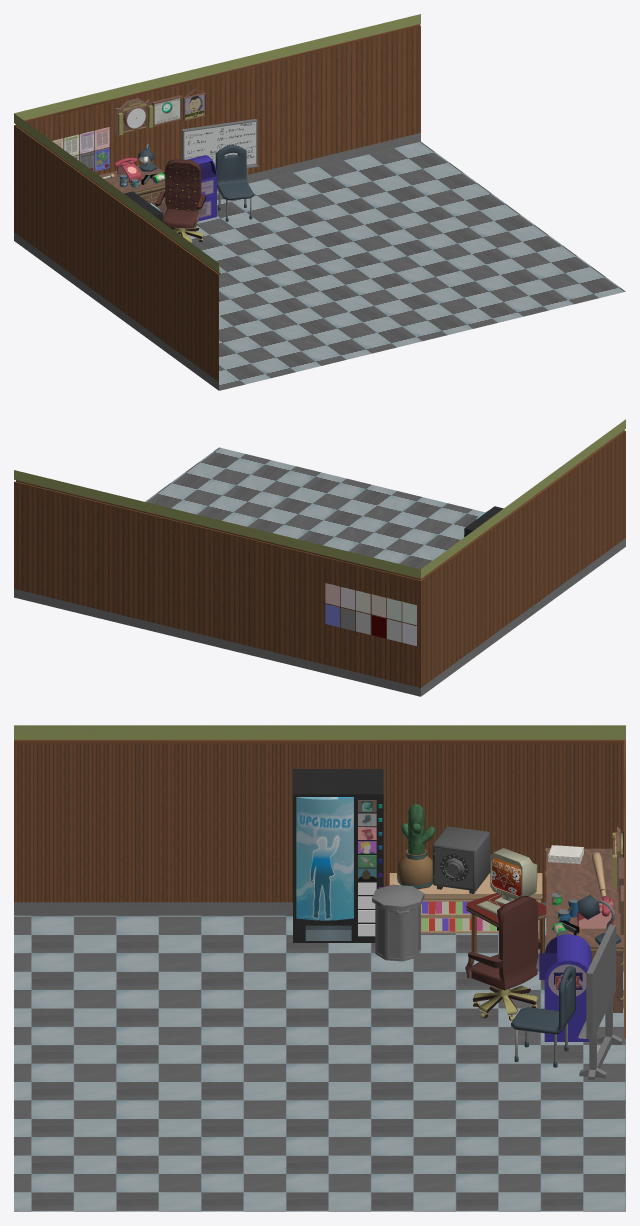
Rendered from Prop collection.fbx.
The picture shows the model from 3 angles, top to bottom: view 1: azimuth 30°, elevation 25°; view 2: azimuth 150°, elevation 25°; view 3: azimuth 270°, elevation 25°; orthographic projection. The views are drawn at different scales.
Parts seen in each view (by area): view 1: Cube.019, Cube.006, Cube.018, Cube.002, Cylinder.006, Cube.009, Cube.010, Cube.011, Cube.008; view 2: Cube.019; view 3: Cube.019, Cube.017, Cube.006, Cube.009, Cube.018, Cylinder.008, Cube.004, Cube.010, Cube.013, Cube.001, Cube.002, Cylinder (+1 smaller).
Part boxes in pixels (bbox=[...]): Cube.019: bbox=[14, 14, 625, 390]; Cube.006: bbox=[155, 159, 205, 242]; Cube.018: bbox=[182, 119, 259, 199]; Cube.002: bbox=[215, 145, 253, 221]; Cylinder.006: bbox=[114, 98, 153, 136]; Cube.009: bbox=[99, 162, 167, 216]; Cube.010: bbox=[186, 155, 218, 221]; Cube.011: bbox=[152, 95, 182, 126]; Cube.008: bbox=[183, 89, 205, 120]; Cube.019: bbox=[14, 419, 625, 696]; Cube.019: bbox=[14, 725, 625, 1211]; Cube.017: bbox=[293, 769, 383, 942]; Cube.006: bbox=[465, 896, 540, 1020]; Cube.009: bbox=[545, 848, 623, 1012]; Cube.018: bbox=[578, 925, 622, 1080]; Cylinder.008: bbox=[372, 884, 424, 961]; Cube.004: bbox=[466, 848, 546, 953]; Cube.010: bbox=[539, 934, 591, 1041]; Cube.013: bbox=[432, 826, 489, 893]; Cube.001: bbox=[389, 873, 542, 939]; Cube.002: bbox=[511, 966, 575, 1067]; Cylinder: bbox=[397, 804, 435, 889].
Size of the model in its own units: 2993 by 910 by 2613.
Materials: 61 (54 with a texture image).
